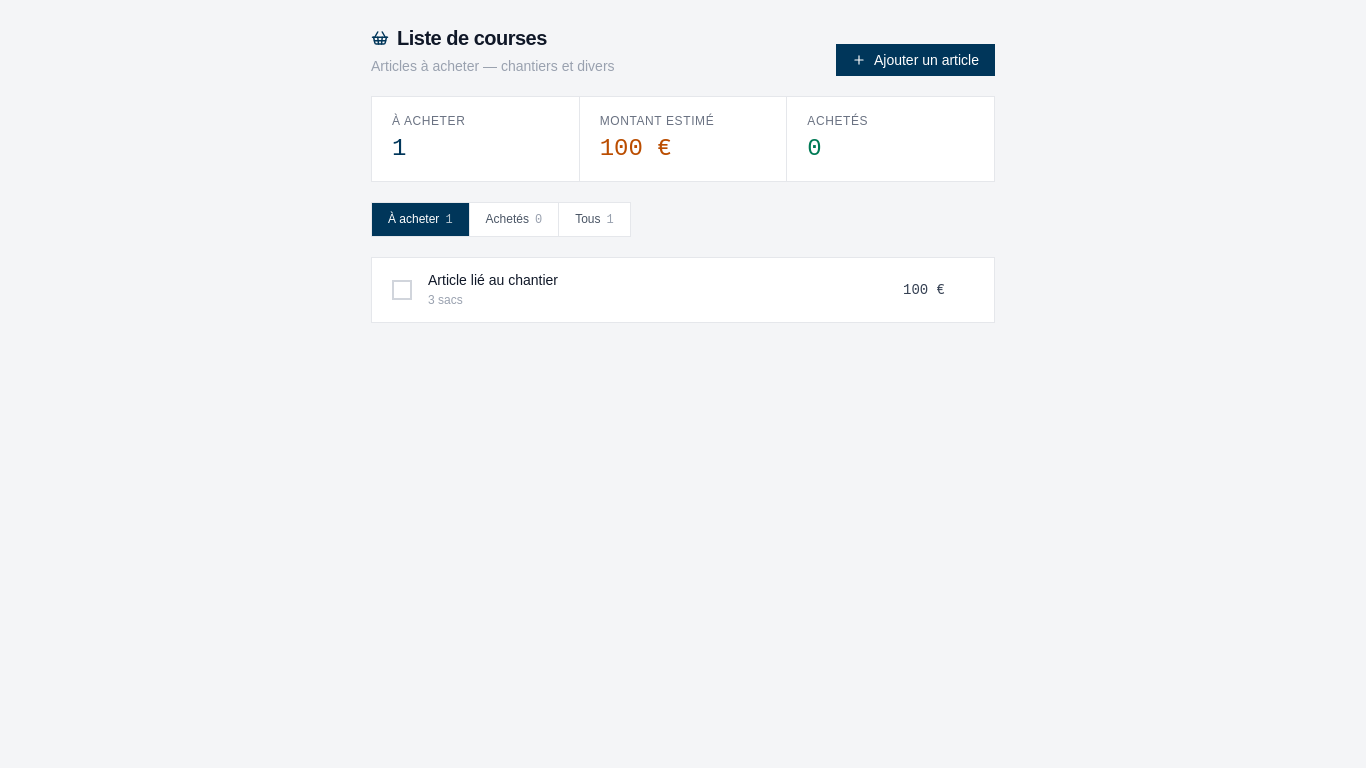
Test: shopping-list UI matching Figma Make › does not submit an invalid amount or close the form on failure
Click the button "Ajouter un article".
click(915, 60)  # box [836, 44, 995, 76]
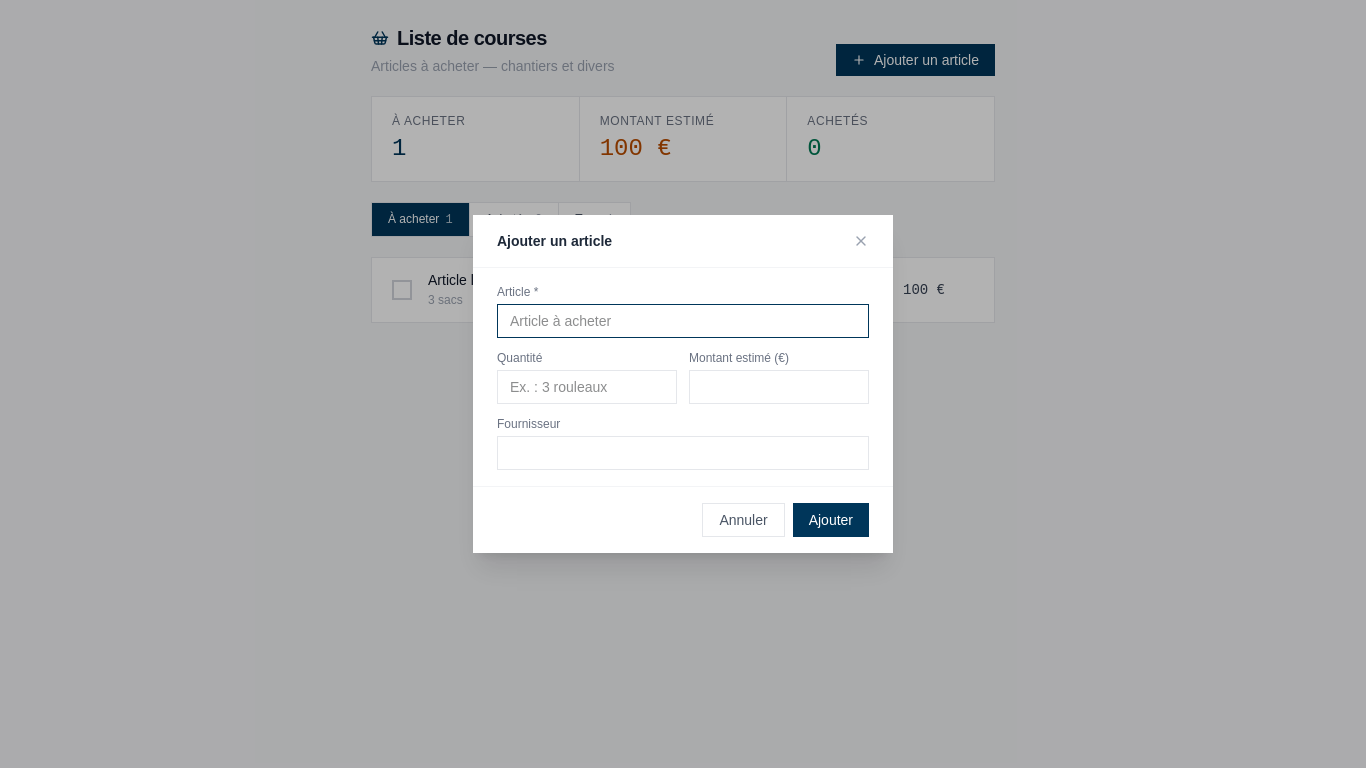
Type "Article divers" into the field labelled "Article *".
click(683, 321); type("Article divers")  # box [497, 304, 869, 338]
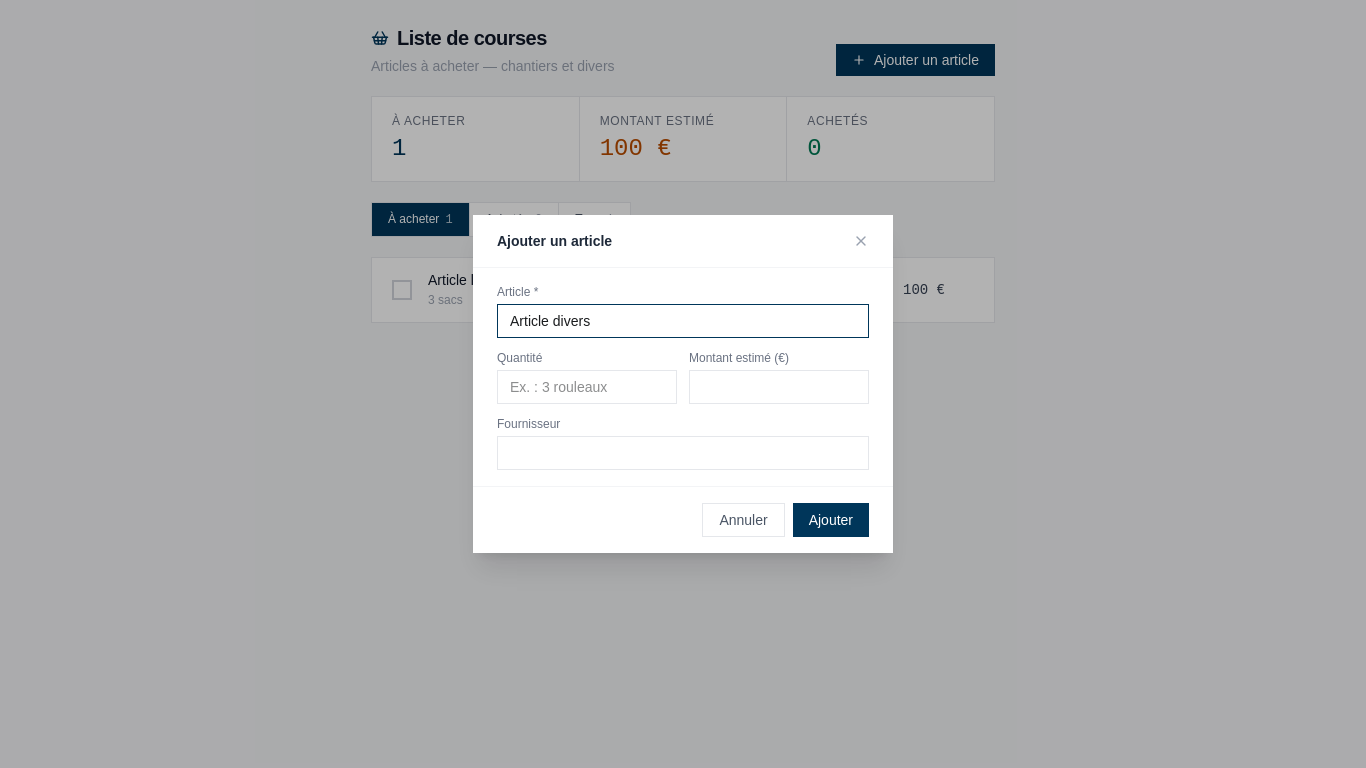
Type "-10" into the field labelled "Montant estimé (€)".
click(779, 387); type("-10")  # box [689, 370, 869, 404]
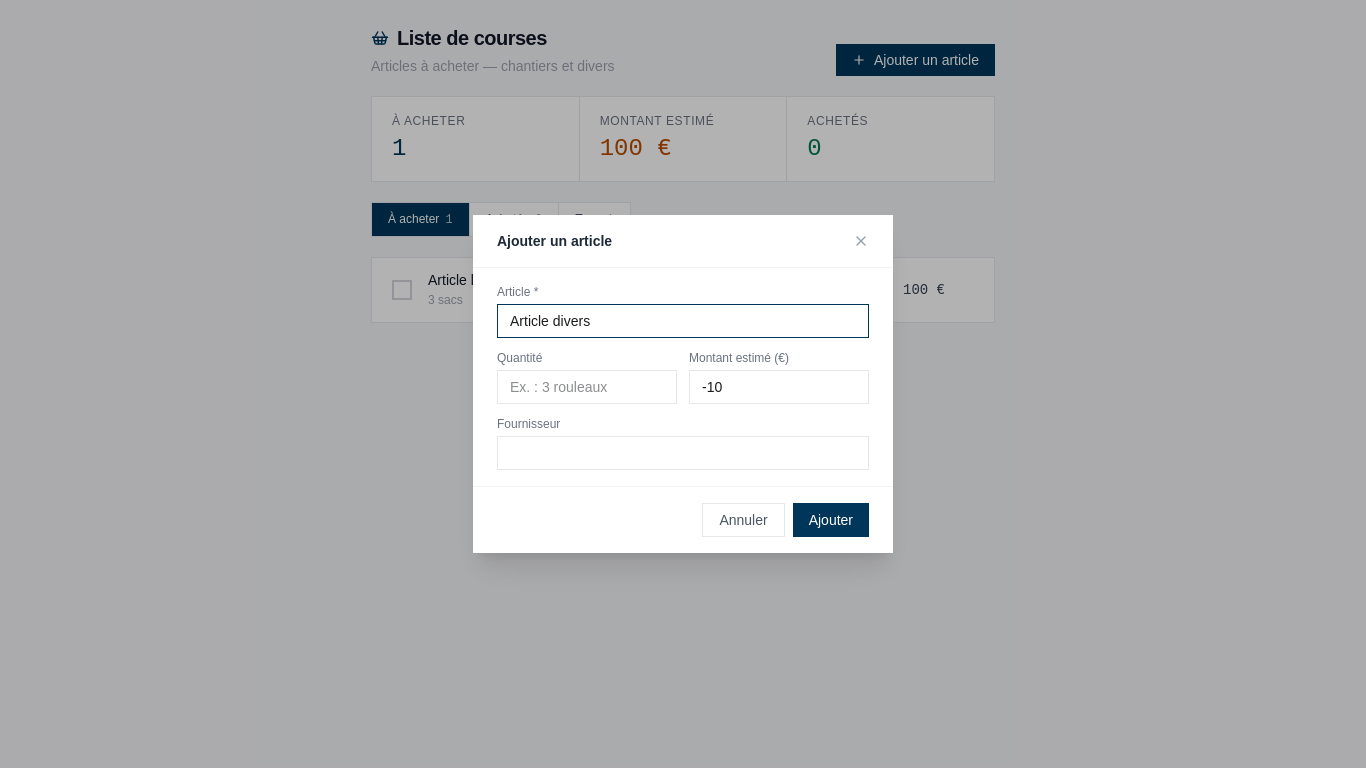
Click the button "Ajouter".
click(831, 520)  # box [793, 503, 869, 537]
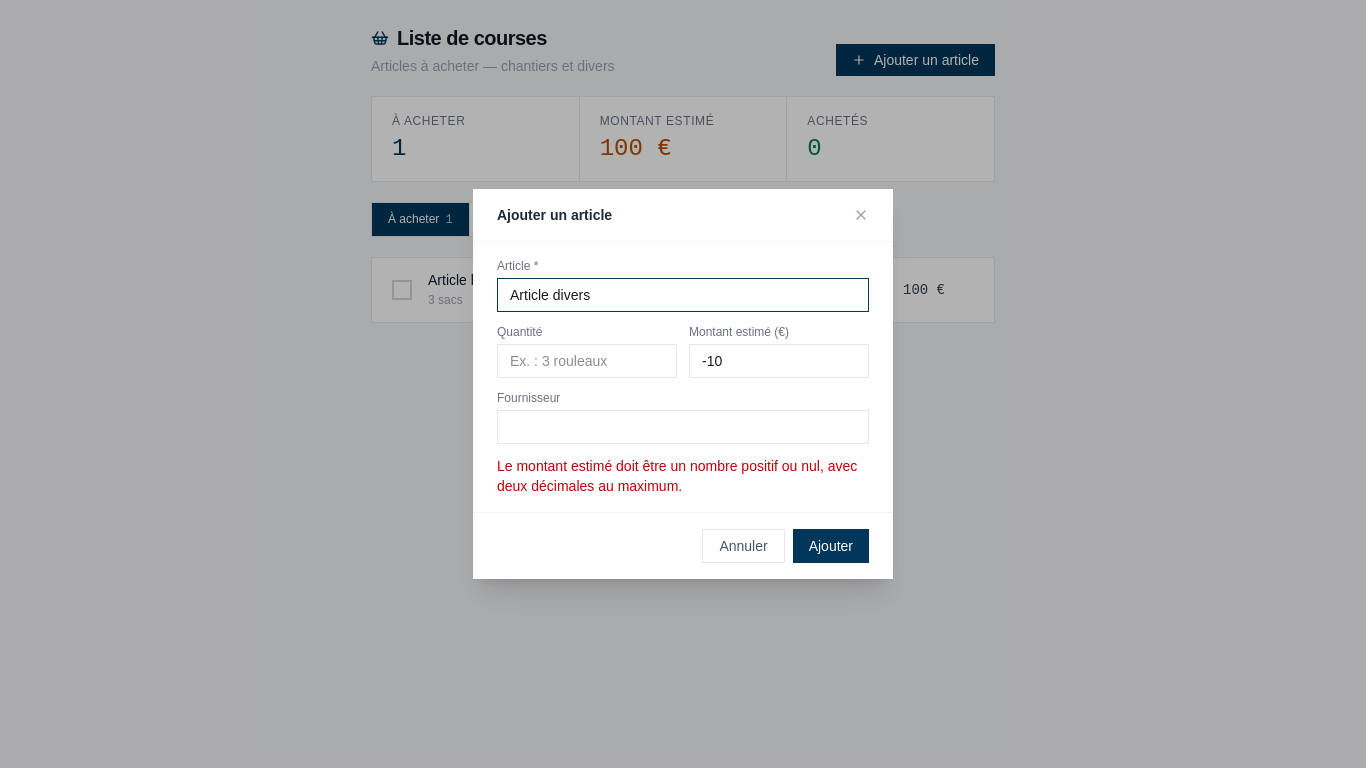
expect the message is shown: met, box [497, 456, 869, 496]
